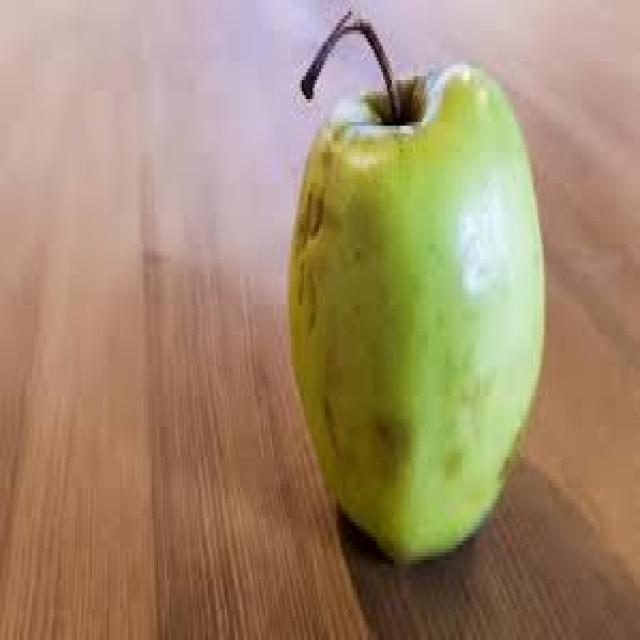Rotten Apple: (289, 65, 547, 568)
